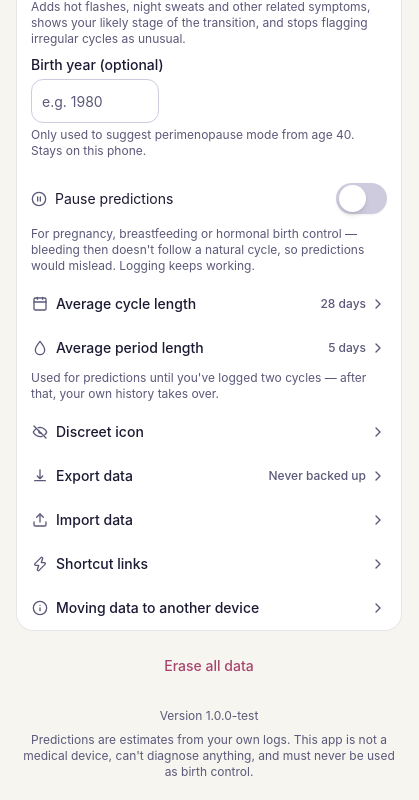
Test: backup bookkeeping › warns that deleting the icon deletes the data
(page scrolled)
Click the button "Moving data to another device". click: (209, 608)
box: [17,586,401,630]
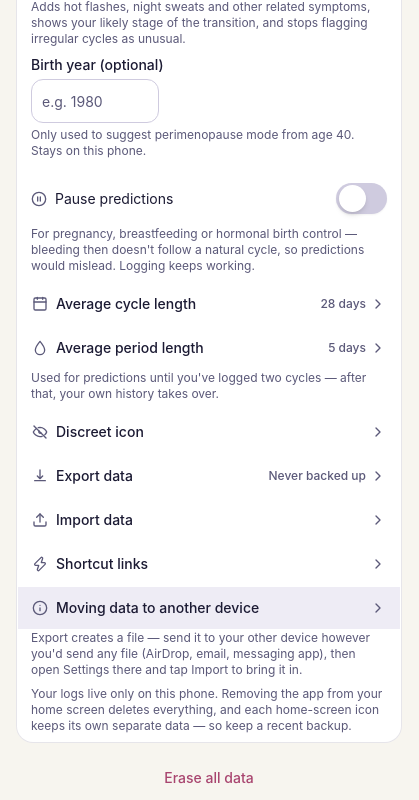
Now the text "removing the app from your home screen deletes everything" is shown, box [31,686,382,733]
